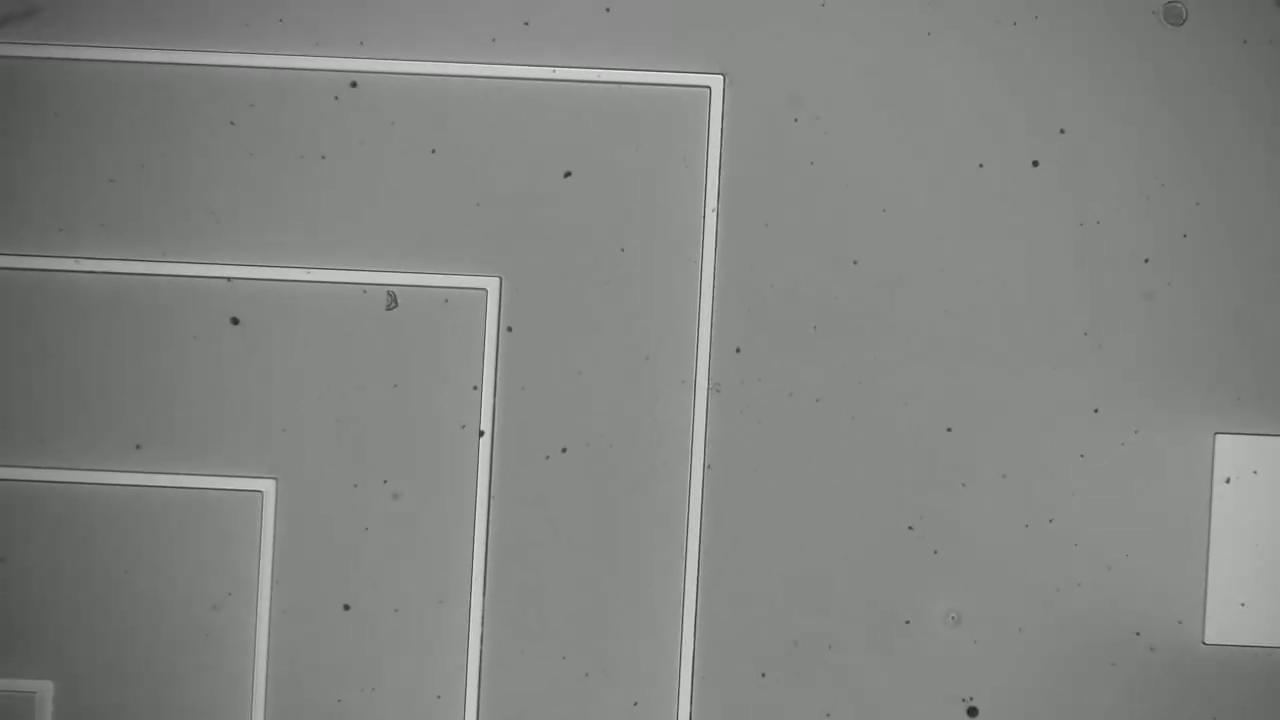stains_enbedded: (473, 421, 499, 446)
